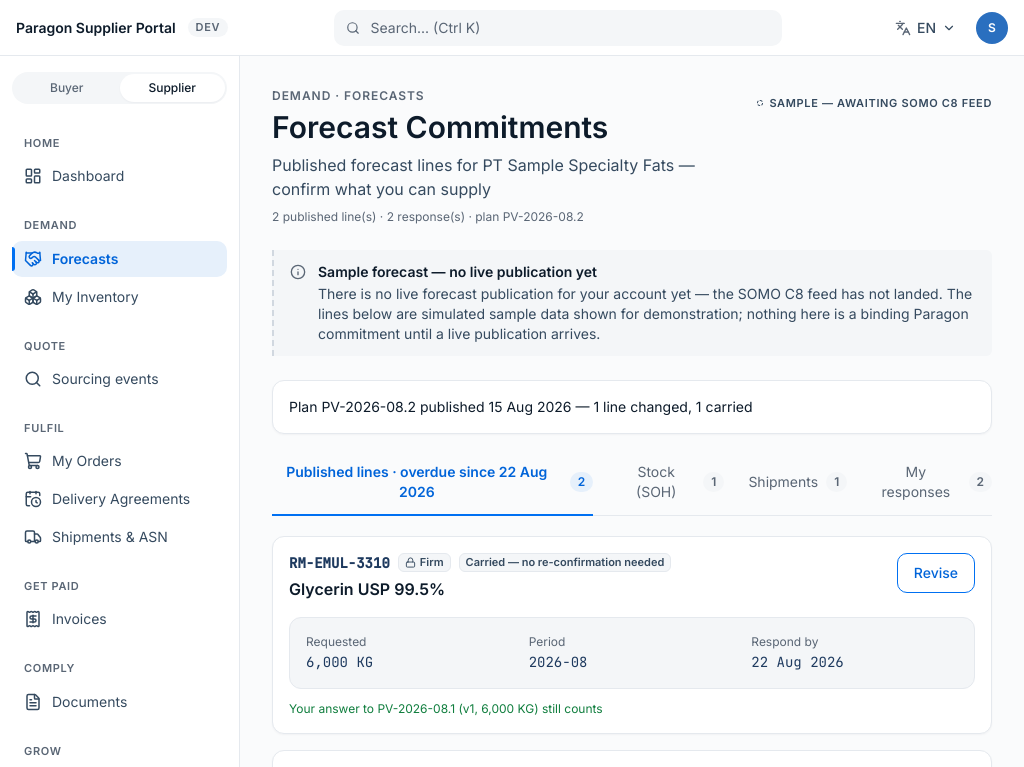
Test case: R1b — the buyer’s words reach the supplier who did not write them › a disputed response shows the buyer’s reason, verbatim
Click the text "My responses". click: (916, 481)
box: [882,463,950,500]
(page scrolled)
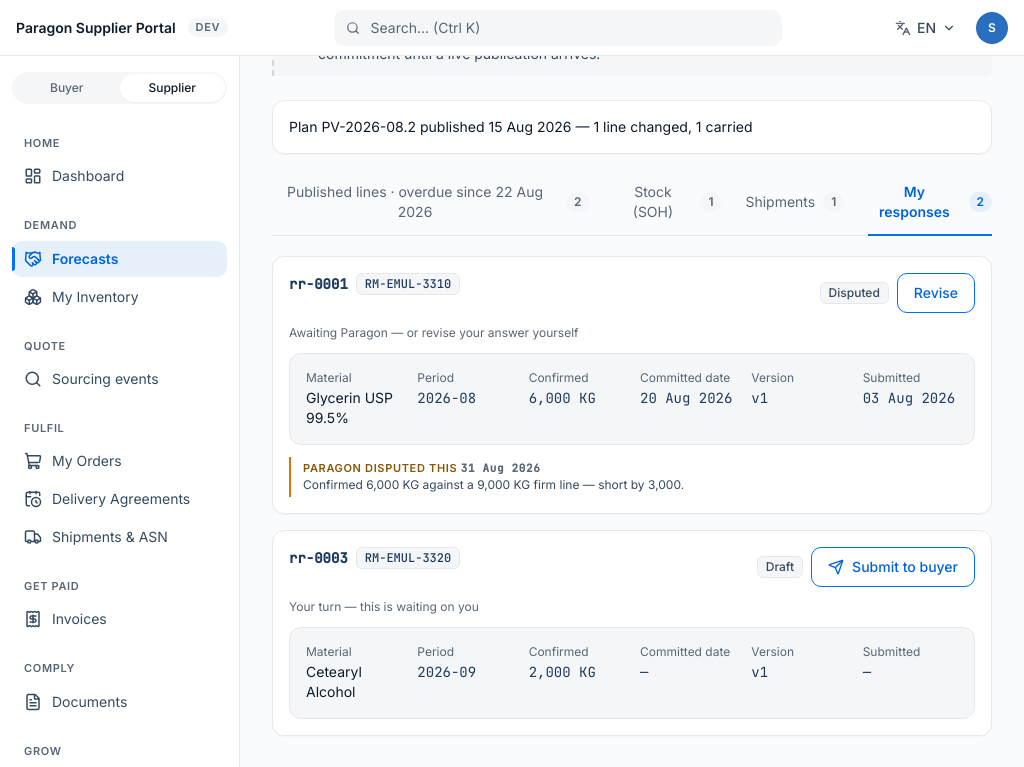
Check: the element with test id "sdcsup-dispute-ledger" is shown, box [289,457,975,497]
Check: the element with test id "sdcsup-dispute-ledger" shows "Paragon disputed this", box [303,461,457,475]
Check: the element with test id "sdcsup-dispute-ledger" shows "Confirmed 6,000 KG against a 9,000 KG firm line — short by 3,000.", box [303,477,684,492]
